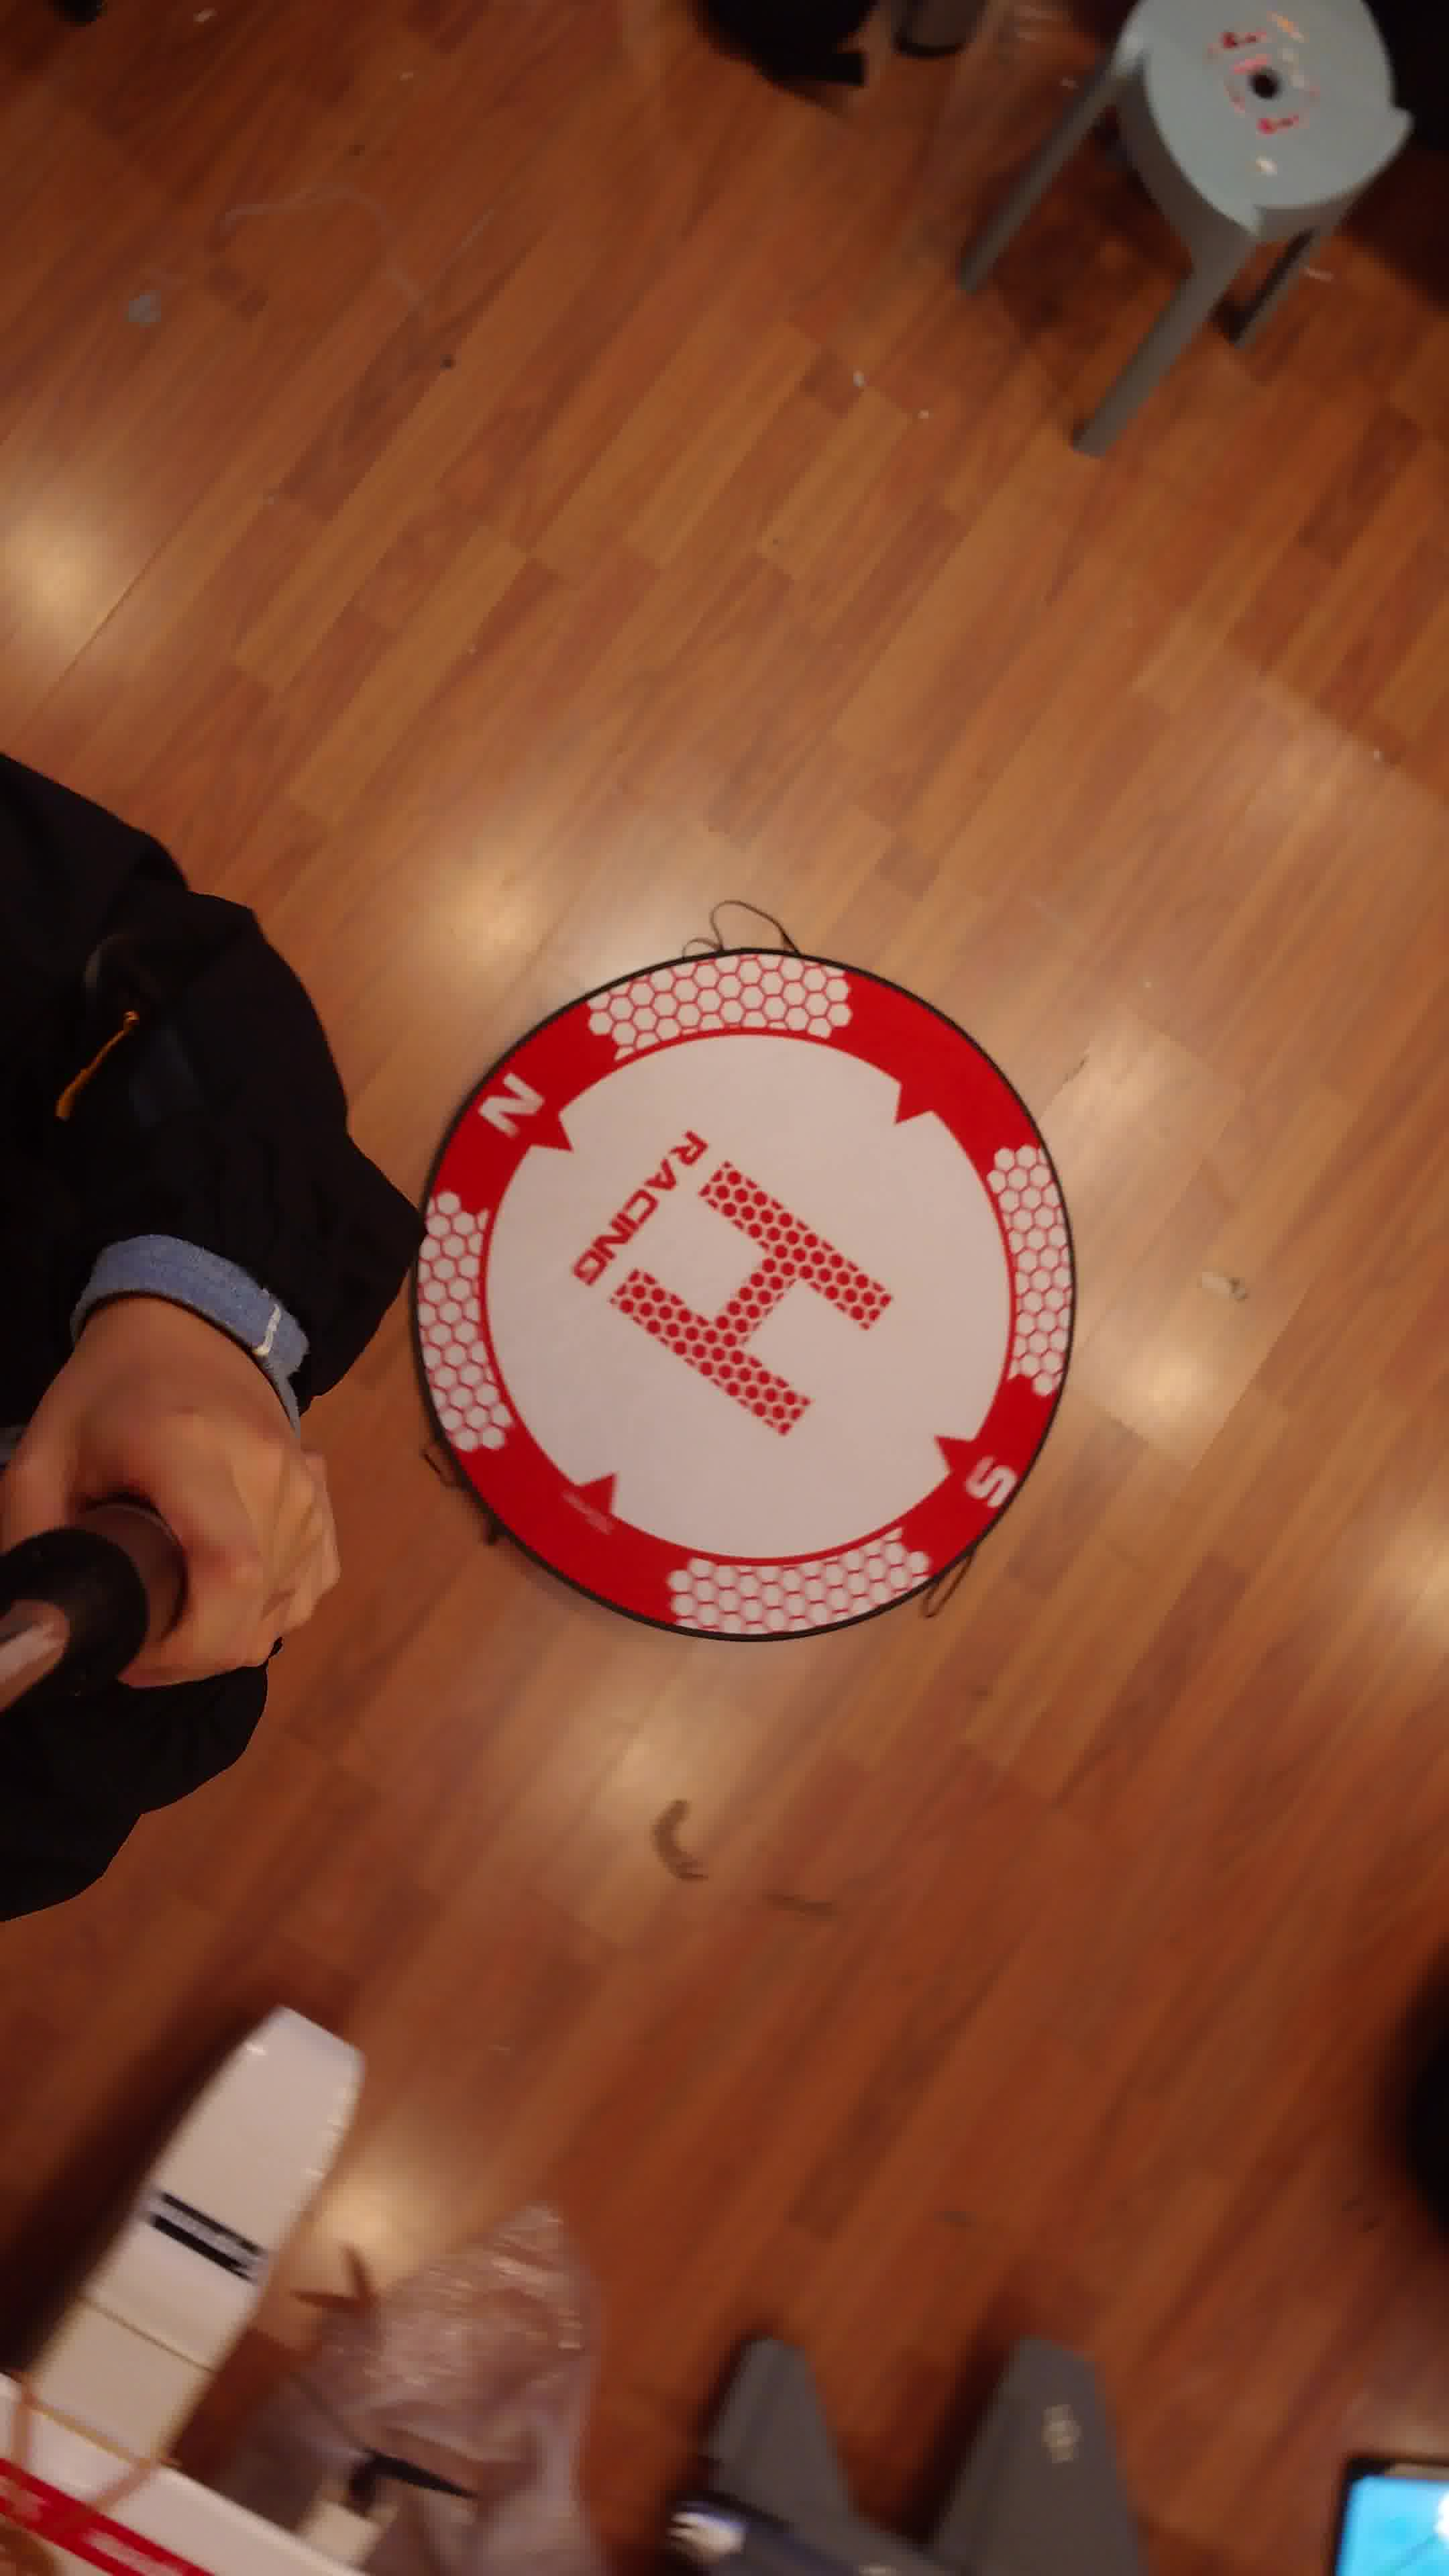H: (607, 1161, 893, 1435)
